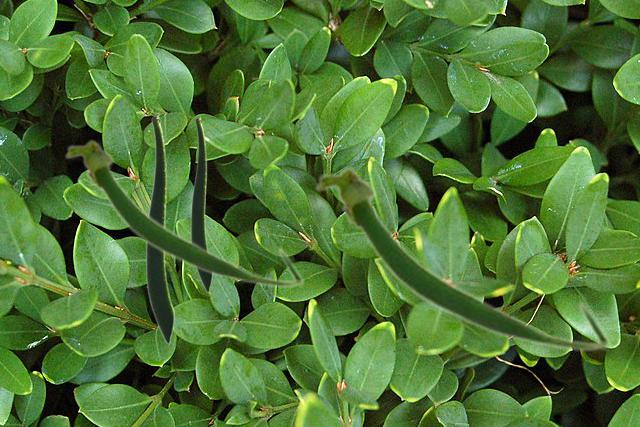french_bean: (313, 164, 611, 352), (63, 137, 304, 288), (145, 112, 174, 344), (190, 115, 212, 292)
